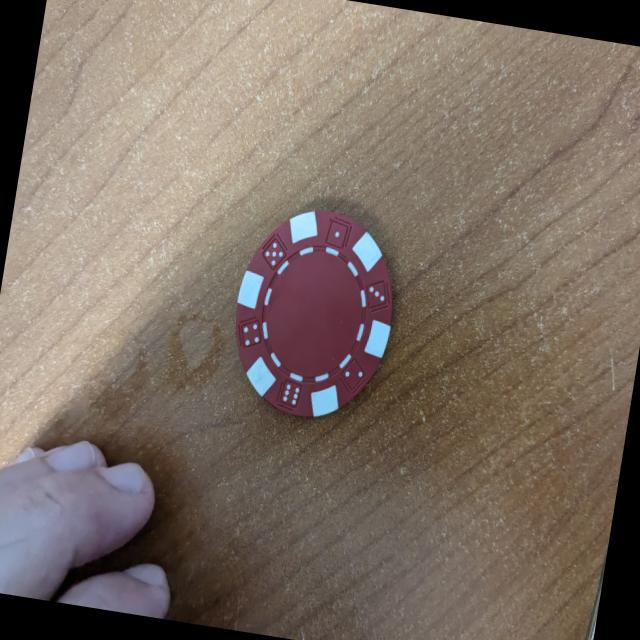red chip: (233, 210, 398, 422)
